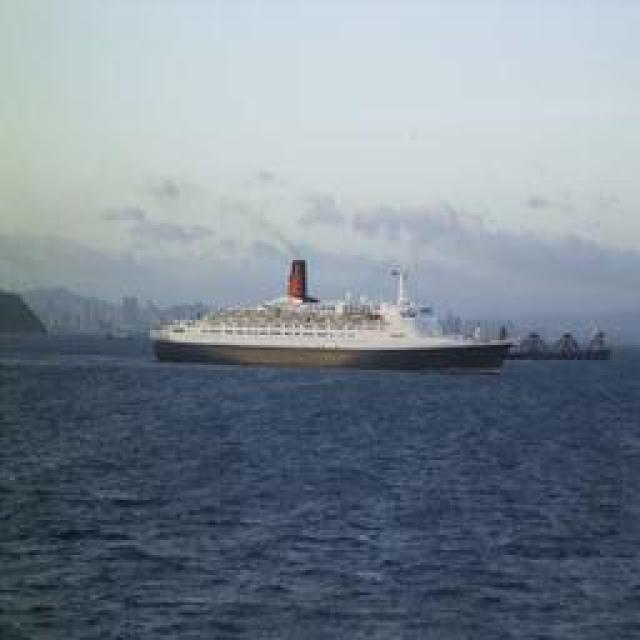Ship: (146, 265, 514, 373)
